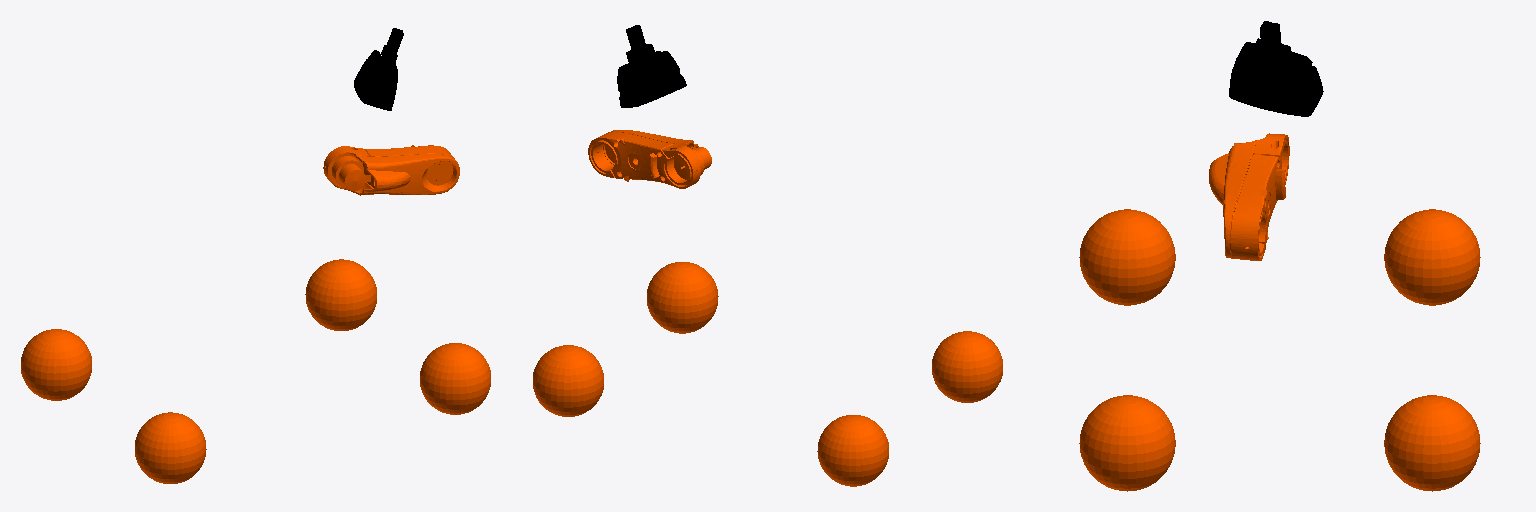
--- Facts derived from the render (not from the file) ---
Views: 3 orthographic renders of the robot side by side, from view 1: azimuth 30°, elevation 25°; view 2: azimuth 150°, elevation 25°; view 3: azimuth 270°, elevation 25°.
Robot: youbot — 21 links, 20 joints (5 revolute, 8 continuous, 2 prismatic, 5 fixed); root link base_footprint; default pose: all joints at 0.
Visible links, largest first — view 1: arm_link_3, wheel_link_fr, wheel_link_bl, wheel_link_br, wheel_link_fl, gripper_palm_link; view 2: arm_link_3, wheel_link_fl, wheel_link_br, wheel_link_fr, wheel_link_bl, gripper_palm_link; view 3: wheel_link_fl, wheel_link_fr, wheel_link_bl, wheel_link_br, arm_link_3, gripper_palm_link, gripper_finger_link_l.
Boxes of the visible links, x1,y1,x2,y2 form: arm_link_3: [323, 145, 459, 195]; wheel_link_fr: [420, 343, 490, 414]; wheel_link_bl: [21, 329, 91, 400]; wheel_link_br: [135, 412, 206, 483]; wheel_link_fl: [305, 259, 376, 330]; gripper_palm_link: [354, 50, 397, 110]; arm_link_3: [588, 130, 711, 188]; wheel_link_fl: [533, 345, 603, 416]; wheel_link_br: [932, 331, 1002, 402]; wheel_link_fr: [647, 262, 718, 333]; wheel_link_bl: [817, 415, 888, 486]; gripper_palm_link: [617, 51, 686, 107]; wheel_link_fl: [1384, 395, 1480, 491]; wheel_link_fr: [1079, 395, 1175, 491]; wheel_link_bl: [1384, 209, 1480, 305]; wheel_link_br: [1079, 209, 1175, 305]; arm_link_3: [1209, 133, 1289, 260]; gripper_palm_link: [1229, 42, 1323, 116]; gripper_finger_link_l: [1268, 23, 1291, 64].
Size in the robot's own frame: 0.5791 by 0.416 by 0.527 metres.
Meshes: 11 distinct files referenced, 4 mesh visuals loaded (3 Collada DAE); not drawn: 8 (reference not matched to a file when rendering).

URDF robot description (youbot):
<?xml version="1.0" ?>
<!-- =================================================================================== -->
<!-- |    This document was autogenerated by xacro from robots/youbot.urdf.xacro       | -->
<!-- |    EDITING THIS FILE BY HAND IS NOT RECOMMENDED                                 | -->
<!-- =================================================================================== -->
<robot name="youbot" xmlns:controller="http://playerstage.sourceforge.net/gazebo/xmlschema/#controller" xmlns:interface="http://playerstage.sourceforge.net/gazebo/xmlschema/#interface" xmlns:sensor="http://playerstage.sourceforge.net/gazebo/xmlschema/#sensor" xmlns:xacro="http://playerstage.sourceforge.net/gazebo/xmlschema/#interface">
  <!--property name="" value="0.360" /-->
  &gt;

	
  <gazebo>
    <plugin filename="libgazebo_ros_control.so" name="gazebo_ros_controller"/>
  </gazebo>
  <material name="Orange">
    <color rgba="1.0 0.4 0.0 1.0"/>
  </material>
  <material name="Grey">
    <color rgba="0.7 0.7 0.7 1.0"/>
  </material>
  <material name="DarkGrey">
    <color rgba="0.3 0.3 0.3 1.0"/>
  </material>
  <material name="White">
    <color rgba="1.0 1.0 1.0 1.0"/>
  </material>
  <material name="Black">
    <color rgba="0.0 0.0 0.0 1.0"/>
  </material>
  <material name="Red">
    <color rgba="1.0 0.0 0.0 1.0"/>
  </material>
  <material name="Green">
    <color rgba="0.0 1.0 0.0 1.0"/>
  </material>
  <material name="Blue">
    <color rgba="0.0 0.0 0.8 1.0"/>
  </material>
  <material name="LightGrey">
    <color rgba="0.82 0.82 0.82 1.0"/>
  </material>
  <!-- Now we can start using the macros xacro:included above to define the actual youbot -->
  <!-- The first use of a macro.  This one was defined in base.urdf.xacro above.
       A macro like this will expand to a set of link and joint definitions, and to additional
       Gazebo-related extensions (sensor plugins, etc).  The macro takes an argument, name, 
       that equals "base", and uses it to generate names for its component links and joints 
       (e.g., base_link).  The xacro:included origin block is also an argument to the macro.  By convention, 
       the origin block defines where the component is w.r.t its parent (in this case the parent 
       is the world frame). For more, see http://www.ros.org/wiki/xacro -->
  <link name="base_footprint">
    <inertial>
      <mass value="0.1"/>
      <origin rpy="0 0 0" xyz="0 0 -0.05"/>
      <inertia ixx="1.0" ixy="0.0" ixz="0.0" iyy="1.0" iyz="0.0" izz="1.0"/>
    </inertial>
    <visual>
      <origin rpy="0 0 0" xyz="0 0 0"/>
      <geometry>
        <box size="0.001 0.001 0.001"/>
      </geometry>
      <material name="Red"/>
    </visual>
    <collision>
      <origin rpy="0 0 0" xyz="0 0 -0.05"/>
      <geometry>
        <box size="0.001 0.001 0.001"/>
      </geometry>
    </collision>
  </link>
  <joint name="base_footprint_joint" type="fixed">
    <origin rpy="0 0 0" xyz="0 0 0"/>
    <child link="base_link"/>
    <parent link="base_footprint"/>
  </joint>
  <link name="base_link">
    <inertial>
      <mass value="22.0"/>
      <origin xyz="0 0 0"/>
      <inertia ixx="5.652232699207" ixy="-0.009719934438" ixz="1.293988226423" iyy="5.669473158652" iyz="-0.007379583694" izz="3.683196351726"/>
    </inertial>
    <visual>
      <origin rpy="0 0 0" xyz="0 0 0"/>
      <geometry>
        <mesh filename="meshes/youbot_base/base.dae"/>
      </geometry>
      <material name="DarkGrey"/>
    </visual>
    <collision>
      <origin rpy="0 0 0" xyz="0 0 0"/>
      <geometry>
        <!--<box size="${base_size_x} ${base_size_y} ${base_size_z}" />-->
        <mesh filename="meshes/youbot_base/base_convex.dae"/>
      </geometry>
    </collision>
  </link>
  <!-- front left wheel -->
  <joint name="caster_joint_fl" type="continuous">
    <origin rpy="0 0 0" xyz="0.228 0.158 -0.034"/>
    <axis xyz="0 0 1"/>
    <limit effort="30" velocity="10"/>
    <dynamics damping="1.0" friction="1.0"/>
    <safety_controller k_velocity="10.0"/>
    <parent link="base_link"/>
    <child link="caster_link_fl"/>
  </joint>
  <link name="caster_link_fl">
    <inertial>
      <mass value="0.1"/>
      <origin xyz="0 0 0"/>
      <inertia ixx="0.012411765597" ixy="-0.000711733678" ixz="0.00050272983" iyy="0.015218160428" iyz="-0.000004273467" izz="0.011763977943"/>
    </inertial>
  </link>
  <joint name="wheel_joint_fl" type="continuous">
    <axis xyz="0 1 0"/>
    <limit effort="30" velocity="10"/>
    <origin rpy="0 0 0" xyz="0.0 0.0 0.0"/>
    <parent link="caster_link_fl"/>
    <dynamics damping="1.0" friction="1.0"/>
    <safety_controller k_velocity="10.0"/>
    <child link="wheel_link_fl"/>
  </joint>
  <link name="wheel_link_fl">
    <inertial>
      <mass value="0.4"/>
      <origin xyz="0 0 0"/>
      <inertia ixx="0.012411765597" ixy="-0.000711733678" ixz="0.00050272983" iyy="0.015218160428" iyz="-0.000004273467" izz="0.011763977943"/>
    </inertial>
    <visual>
      <origin rpy="0 0 0" xyz="0 0 0"/>
      <!--<mesh filename="meshes/youbot_base/youbot_wheel.stl" />-->
      <geometry>
        <sphere radius="0.05"/>
      </geometry>
      <material name="Orange"/>
    </visual>
    <collision>
      <origin rpy="1.57079632679 0 0" xyz="0 0 0"/>
      <geometry>
        <cylinder length="0.05" radius="0.05"/>
      </geometry>
    </collision>
  </link>
  <!-- front right wheel -->
  <joint name="caster_joint_fr" type="continuous">
    <origin rpy="0 0 0" xyz="0.228 -0.158 -0.034"/>
    <axis xyz="0 0 1"/>
    <limit effort="30" velocity="10"/>
    <dynamics damping="1.0" friction="1.0"/>
    <safety_controller k_velocity="10.0"/>
    <parent link="base_link"/>
    <child link="caster_link_fr"/>
  </joint>
  <link name="caster_link_fr">
    <inertial>
      <mass value="0.1"/>
      <origin xyz="0 0 0"/>
      <inertia ixx="0.012411765597" ixy="-0.000711733678" ixz="0.00050272983" iyy="0.015218160428" iyz="-0.000004273467" izz="0.011763977943"/>
    </inertial>
  </link>
  <joint name="wheel_joint_fr" type="continuous">
    <axis xyz="0 1 0"/>
    <limit effort="30" velocity="10"/>
    <dynamics damping="1.0" friction="1.0"/>
    <safety_controller k_velocity="10.0"/>
    <origin rpy="0 0 0" xyz="0.0 0.0 0.0"/>
    <parent link="caster_link_fr"/>
    <child link="wheel_link_fr"/>
  </joint>
  <link name="wheel_link_fr">
    <inertial>
      <mass value="0.4"/>
      <origin xyz="0 0 0"/>
      <inertia ixx="0.012411765597" ixy="-0.000711733678" ixz="0.00050272983" iyy="0.015218160428" iyz="-0.000004273467" izz="0.011763977943"/>
    </inertial>
    <visual>
      <origin rpy="0 0 0" xyz="0 0 0"/>
      <geometry>
        <!--<mesh filename="meshes/youbot_base/youbot_wheel.stl" />-->
        <sphere radius="0.05"/>
      </geometry>
      <material name="Orange"/>
    </visual>
    <collision>
      <origin rpy="1.57079632679 0 0" xyz="0 0 0"/>
      <geometry>
        <cylinder length="0.05" radius="0.05"/>
      </geometry>
    </collision>
  </link>
  <!-- back left wheel -->
  <joint name="caster_joint_bl" type="continuous">
    <origin rpy="0 0 0" xyz="-0.228 0.158 -0.034"/>
    <axis xyz="0 0 1"/>
    <limit effort="30" velocity="10"/>
    <dynamics damping="1.0" friction="1.0"/>
    <safety_controller k_velocity="10.0"/>
    <parent link="base_link"/>
    <child link="caster_link_bl"/>
  </joint>
  <link name="caster_link_bl">
    <inertial>
      <mass value="0.1"/>
      <origin xyz="0 0 0"/>
      <inertia ixx="0.012411765597" ixy="-0.000711733678" ixz="0.00050272983" iyy="0.015218160428" iyz="-0.000004273467" izz="0.011763977943"/>
    </inertial>
  </link>
  <joint name="wheel_joint_bl" type="continuous">
    <axis xyz="0 1 0"/>
    <limit effort="10" velocity="10"/>
    <limit effort="30" velocity="10"/>
    <dynamics damping="1.0" friction="1.0"/>
    <safety_controller k_velocity="10.0"/>
    <origin rpy="0 0 0" xyz="0.0 0.0 0.0"/>
    <parent link="caster_link_bl"/>
    <child link="wheel_link_bl"/>
  </joint>
  <link name="wheel_link_bl">
    <inertial>
      <mass value="0.4"/>
      <origin xyz="0 0 0"/>
      <inertia ixx="0.012411765597" ixy="-0.000711733678" ixz="0.00050272983" iyy="0.015218160428" iyz="-0.000004273467" izz="0.011763977943"/>
    </inertial>
    <visual>
      <origin rpy="0 0 0" xyz="0 0 0"/>
      <geometry>
        <!--<mesh filename="meshes/youbot_base/youbot_wheel.stl" />-->
        <sphere radius="0.05"/>
      </geometry>
      <material name="Orange"/>
    </visual>
    <collision>
      <origin rpy="1.57079632679 0 0" xyz="0 0 0"/>
      <geometry>
        <cylinder length="0.05" radius="0.05"/>
      </geometry>
    </collision>
  </link>
  <!-- back right wheel -->
  <joint name="caster_joint_br" type="continuous">
    <origin rpy="0 0 0" xyz="-0.228 -0.158 -0.034"/>
    <axis xyz="0 0 1"/>
    <limit effort="30" velocity="10"/>
    <dynamics damping="1.0" friction="1.0"/>
    <safety_controller k_velocity="10.0"/>
    <parent link="base_link"/>
    <child link="caster_link_br"/>
  </joint>
  <link name="caster_link_br">
    <inertial>
      <mass value="0.1"/>
      <origin xyz="0 0 0"/>
      <inertia ixx="0.012411765597" ixy="-0.000711733678" ixz="0.00050272983" iyy="0.015218160428" iyz="-0.000004273467" izz="0.011763977943"/>
    </inertial>
  </link>
  <joint name="wheel_joint_br" type="continuous">
    <axis xyz="0 1 0"/>
    <limit effort="30" velocity="10"/>
    <dynamics damping="1.0" friction="1.0"/>
    <safety_controller k_velocity="10.0"/>
    <origin rpy="0 0 0" xyz="0.0 0.0 0.0"/>
    <parent link="caster_link_br"/>
    <child link="wheel_link_br"/>
  </joint>
  <link name="wheel_link_br">
    <inertial>
      <mass value="0.4"/>
      <origin xyz="0 0 0"/>
      <inertia ixx="0.012411765597" ixy="-0.000711733678" ixz="0.00050272983" iyy="0.015218160428" iyz="-0.000004273467" izz="0.011763977943"/>
    </inertial>
    <visual>
      <origin rpy="0 0 0" xyz="0 0 0"/>
      <geometry>
        <!--<mesh filename="meshes/youbot_base/youbot_wheel.stl" />-->
        <sphere radius="0.05"/>
      </geometry>
      <material name="Orange"/>
    </visual>
    <collision>
      <origin rpy="1.57079632679 0 0" xyz="0 0 0"/>
      <geometry>
        <cylinder length="0.05" radius="0.05"/>
      </geometry>
    </collision>
  </link>
  <gazebo reference="youbot_base">
    <material value="youbot/DarkGrey"/>
  </gazebo>
  <!-- front left wheel -->
  <gazebo reference="wheel_link_fl">
    <material value="youbot/Orange"/>
    <kp>1000000</kp>
    <kd>100</kd>
  </gazebo>
  <gazebo reference="caster_link_fl">
    <material value="youbot/Orange"/>
  </gazebo>
  <!-- front right wheel -->
  <gazebo reference="wheel_link_fr">
    <material value="youbot/Orange"/>
    <kp>1000000</kp>
    <kd>100</kd>
  </gazebo>
  <gazebo reference="caster_link_fr">
    <material value="youbot/Orange"/>
  </gazebo>
  <!-- back left wheel -->
  <gazebo reference="wheel_link_bl">
    <material value="youbot/Orange"/>
    <kp>1000000</kp>
    <kd>100</kd>
  </gazebo>
  <gazebo reference="caster_link_bl">
    <material value="youbot/Orange"/>
  </gazebo>
  <!-- back right wheel -->
  <gazebo reference="wheel_link_br">
    <material value="youbot/Orange"/>
    <kp>1000000</kp>
    <kd>100</kd>
  </gazebo>
  <gazebo reference="caster_link_br">
    <material value="youbot/Orange"/>
  </gazebo>
  <!-- position controller -->
  <gazebo>
    <plugin filename="libgazebo_ros_planar_move.so" name="base_controller">
      <commandTopic>cmd_vel</commandTopic>
      <odometryTopic>odom</odometryTopic>
      <odometryFrame>odom</odometryFrame>
      <odometryRate>100.0</odometryRate>
      <robotBaseFrame>base_footprint</robotBaseFrame>
    </plugin>
  </gazebo>
  <!-- front left wheel -->
  <transmission name="wheel_trans_fl">
    <type>transmission_interface/SimpleTransmission</type>
    <actuator name="wheel_motor_fl">
      <hardwareInterface>VelocityJointInterface</hardwareInterface>
      <mechanicalReduction>79.2380952381</mechanicalReduction>
    </actuator>
    <joint name="wheel_joint_fl">
      <hardwareInterface>VelocityJointInterface</hardwareInterface>
    </joint>
  </transmission>
  <transmission name="caster_trans_fl">
    <type>transmission_interface/SimpleTransmission</type>
    <actuator name="caster_motor_fl">
      <hardwareInterface>VelocityJointInterface</hardwareInterface>
      <mechanicalReduction>79.2380952381</mechanicalReduction>
    </actuator>
    <joint name="caster_joint_fl">
      <hardwareInterface>VelocityJointInterface</hardwareInterface>
    </joint>
  </transmission>
  <!-- front right wheel -->
  <transmission name="wheel_trans_fr">
    <type>transmission_interface/SimpleTransmission</type>
    <actuator name="wheel_motor_fr">
      <hardwareInterface>VelocityJointInterface</hardwareInterface>
      <mechanicalReduction>79.2380952381</mechanicalReduction>
    </actuator>
    <joint name="wheel_joint_fr">
      <hardwareInterface>VelocityJointInterface</hardwareInterface>
    </joint>
  </transmission>
  <transmission name="caster_trans_fr">
    <type>transmission_interface/SimpleTransmission</type>
    <actuator name="caster_motor_fr">
      <hardwareInterface>VelocityJointInterface</hardwareInterface>
      <mechanicalReduction>79.2380952381</mechanicalReduction>
    </actuator>
    <joint name="caster_joint_fr">
      <hardwareInterface>VelocityJointInterface</hardwareInterface>
    </joint>
  </transmission>
  <!-- back left wheel -->
  <transmission name="wheel_trans_bl">
    <type>transmission_interface/SimpleTransmission</type>
    <actuator name="wheel_motor_bl">
      <hardwareInterface>VelocityJointInterface</hardwareInterface>
      <mechanicalReduction>79.2380952381</mechanicalReduction>
    </actuator>
    <joint name="wheel_joint_bl">
      <hardwareInterface>VelocityJointInterface</hardwareInterface>
    </joint>
  </transmission>
  <transmission name="caster_trans_bl">
    <type>transmission_interface/SimpleTransmission</type>
    <actuator name="caster_motor_bl">
      <hardwareInterface>VelocityJointInterface</hardwareInterface>
      <mechanicalReduction>79.2380952381</mechanicalReduction>
    </actuator>
    <joint name="caster_joint_bl">
      <hardwareInterface>VelocityJointInterface</hardwareInterface>
    </joint>
  </transmission>
  <!-- back right wheel -->
  <transmission name="wheel_trans_br">
    <type>transmission_interface/SimpleTransmission</type>
    <actuator name="wheel_motor_br">
      <hardwareInterface>VelocityJointInterface</hardwareInterface>
      <mechanicalReduction>79.2380952381</mechanicalReduction>
    </actuator>
    <joint name="wheel_joint_br">
      <hardwareInterface>VelocityJointInterface</hardwareInterface>
    </joint>
  </transmission>
  <transmission name="caster_trans_br">
    <type>transmission_interface/SimpleTransmission</type>
    <actuator name="caster_motor_br">
      <hardwareInterface>VelocityJointInterface</hardwareInterface>
      <mechanicalReduction>79.2380952381</mechanicalReduction>
    </actuator>
    <joint name="caster_joint_br">
      <hardwareInterface>VelocityJointInterface</hardwareInterface>
    </joint>
  </transmission>
  <!-- joint between arm_7_link and sdh_palm_link -->
  <joint name="plate_joint" type="fixed">
    <origin rpy="0 0 0" xyz="-0.159 0 0.046"/>
    <parent link="base_link"/>
    <child link="plate_link"/>
  </joint>
  <link name="plate_link">
    <inertial>
      <origin rpy="0 0 0" xyz="0 0 0"/>
      <mass value="1"/>
      <inertia ixx="0.01" ixy="0" ixz="0" iyy="0.01" iyz="0" izz="0.01"/>
    </inertial>
    <visual>
      <origin rpy="0 0 0" xyz="0 0 0"/>
      <geometry>
        <mesh filename="meshes/youbot_plate/plate.dae"/>
      </geometry>
      <material name="DarkGrey"/>
    </visual>
    <collision>
      <origin rpy="0 0 0" xyz="0 0 0"/>
      <geometry>
        <mesh filename="meshes/youbot_plate/plate_convex.dae"/>
      </geometry>
    </collision>
  </link>
  <!-- extensions -->
  <!-- joint between base_link and arm_0_link -->
  <joint name="arm_joint_0" type="fixed">
    <origin rpy="0 0 0" xyz="0.143 0 0.046"/>
    <parent link="base_link"/>
    <child link="arm_link_0"/>
  </joint>
  <link name="arm_link_0">
    <inertial>
      <!--<origin xyz="0.023 0 0.006" rpy="0 0 0"/>-->
      <origin rpy="0 0 0" xyz="0 0 0"/>
      <mass value="0.845"/>
      <inertia ixx="0.01" ixy="0" ixz="0" iyy="0.01" iyz="0" izz="0.01"/>
    </inertial>
    <visual>
      <origin rpy="0 0 0" xyz="0 0 0"/>
      <geometry>
        <mesh filename="meshes/youbot_arm/arm0.dae"/>
      </geometry>
      <material name="DarkGrey"/>
    </visual>
    <collision>
      <!--<origin xyz="0.023 0 0.006" rpy="0 0 0"/>-->
      <origin rpy="0 0 0" xyz="0 0 0"/>
      <geometry>
        <mesh filename="meshes/youbot_arm/arm0_convex.dae"/>
        <!--<cylinder length="0.078" radius="0.093"/>-->
      </geometry>
    </collision>
  </link>
  <!-- joint between arm_0_link and arm_1_link -->
  <joint name="arm_joint_1" type="revolute">
    <origin rpy="0 0 2.96705972839" xyz="0.024 0 0.096"/>
    <parent link="arm_link_0"/>
    <child link="arm_link_1"/>
    <axis xyz="0 0 -1"/>
    <!--<calibration rising="${arm_1_ref}" falling="${arm_1_ref}"/>-->
    <dynamics damping="1" friction="1"/>
    <!-- damping - N*s/m, N*s*m/rad -->
    <!-- friction - N, N*m -->
    <limit effort="9.5" lower="0" upper="5.89921287174" velocity="1.57079632679"/>
    <!--effort - N, N*m-->
    <!--velocity - m/s, rad/s-->
    <safety_controller k_position="20" k_velocity="1.51197195937" soft_lower_limit="0.001" soft_upper_limit="5.89821287174"/>
    <!--k_position N/m, N/rad-->
    <!--k_velocity N*s/m, N*s*m/rad-->
    <!--for details: http://www.ros.org/wiki/pr2_controller_manager/safety_limits-->
  </joint>
  <link name="arm_link_1">
    <inertial>
      <mass value="2.412"/>
      <origin rpy="0 0 0" xyz="0.01489 0.00213 0.00213"/>
      <inertia ixx="0.003863" ixy="-0.000979" ixz="0.000000" iyy="0.006196" iyz="0.000000" izz="0.006369"/>
    </inertial>
    <visual>
      <origin rpy="0 0 0" xyz="0 0 0"/>
      <geometry>
        <mesh filename="meshes/youbot_arm/arm1.dae"/>
      </geometry>
      <!--<material name="Orange" />-->
    </visual>
    <collision>
      <!--<origin xyz="0 0 -0.003" rpy="0 0 0" />-->
      <origin rpy="0 0 0" xyz="0 0 0"/>
      <geometry>
        <mesh filename="meshes/youbot_arm/arm1_convex.dae"/>
        <!--<cylinder length="0.102" radius="0.080"/>-->
      </geometry>
    </collision>
  </link>
  <!-- joint between arm_1_link and arm_2_link -->
  <joint name="arm_joint_2" type="revolute">
    <origin rpy="0 -1.1344640138 0" xyz="0.033 0 0.019"/>
    <parent link="arm_link_1"/>
    <child link="arm_link_2"/>
    <axis xyz="0 1 0"/>
    <!--<calibration rising="${arm_2_ref}" falling="${arm_2_ref}"/>-->
    <dynamics damping="1" friction="1"/>
    <limit effort="9.5" lower="0" upper="2.70526034059" velocity="1.57079632679"/>
    <safety_controller k_position="20" k_velocity="6.04788783749" soft_lower_limit="0.001" soft_upper_limit="2.70426034059"/>
  </joint>
  <link name="arm_link_2">
    <inertial>
      <mass value="1.155"/>
      <origin rpy="0 0 0" xyz="0.10453 0.0017 -0.00297"/>
      <inertia ixx="0.000823" ixy="0.000000" ixz="-0.000000" iyy="0.004447" iyz="0.000000" izz="0.004439"/>
    </inertial>
    <visual>
      <origin rpy="0 0 0" xyz="0 -0.032 0.078"/>
      <geometry>
        <mesh filename="meshes/youbot_arm/arm2.dae"/>
      </geometry>
      <material name="Orange"/>
    </visual>
    <collision>
      <!--<origin xyz="0.001 -0.041 0.074" rpy="0 0 0" />-->
      <origin rpy="0 0 0" xyz="0 -0.032 0.078"/>
      <geometry>
        <mesh filename="meshes/youbot_arm/arm2_convex.dae"/>
        <!--<box size="0.074 0.082 0.222"/>-->
      </geometry>
    </collision>
  </link>
  <!-- joint between arm_2_link and arm_3_link -->
  <!--<joint name="${name}_joint_3" type="revolute">
			<origin xyz="0.000 0.000 0.155" rpy="0 ${146 * M_PI / 180} 0"/>
			<parent link="${name}_link_2"/>
			<child link="${name}_link_3"/>
			<axis xyz="0 1 0"/>
			<dynamics damping="1" friction="1" />
			<limit effort="${6}" velocity="${M_PI / 2.0}" lower="-${joint_3_limit}" upper="0"/>
                        <safety_controller k_position="20" k_velocity="50" soft_lower_limit="-${joint_3_limit_soft}" soft_upper_limit="${threshold}" />
		</joint>-->
  <joint name="arm_joint_3" type="revolute">
    <origin rpy="0 2.54818070791 0" xyz="0.000 0.000 0.155"/>
    <parent link="arm_link_2"/>
    <child link="arm_link_3"/>
    <axis xyz="0 1 0"/>
    <dynamics damping="1" friction="1"/>
    <limit effort="6" lower="-5.18362787842" upper="0" velocity="1.57079632679"/>
    <safety_controller k_position="20" k_velocity="50" soft_lower_limit="-5.18262787842" soft_upper_limit="-0.001"/>
  </joint>
  <link name="arm_link_3">
    <inertial>
      <mass value="0.934"/>
      <origin rpy="0 0 0" xyz="0.0001 0.0967 0.02107"/>
      <inertia ixx="0.002459" ixy="0.000000" ixz="0.000000" iyy="0.002571" iyz="-0.000000" izz="0.000535"/>
    </inertial>
    <visual>
      <origin rpy="0 0 0" xyz="0.000 0.028 0.079"/>
      <geometry>
        <mesh filename="meshes/youbot_arm/arm3.dae"/>
      </geometry>
      <material name="Orange"/>
    </visual>
    <collision>
      <!--<origin xyz="0.000 0.025 0.067" rpy="0 0 0" />-->
      <origin rpy="0 0 0" xyz="0.000 0.028 0.079"/>
      <geometry>
        <mesh filename="meshes/youbot_arm/arm3_convex.dae"/>
        <!--<box size="0.064 0.054 0.192"/>-->
      </geometry>
    </collision>
  </link>
  <!-- joint between arm_3_link and arm_4_link -->
  <joint name="arm_joint_4" type="revolute">
    <origin rpy="0 -1.78896248329 0" xyz="0.000 0.000 0.135"/>
    <parent link="arm_link_3"/>
    <child link="arm_link_4"/>
    <axis xyz="0 1 0"/>
    <!--<calibration rising="${arm_4_ref}" falling="${arm_4_ref}"/>-->
    <dynamics damping="1" friction="1"/>
    <limit effort="2" lower="0" upper="3.57792496659" velocity="1.57079632679"/>
    <safety_controller k_position="20" k_velocity="100" soft_lower_limit="0" soft_upper_limit="3.57692496659"/>
  </joint>
  <link name="arm_link_4">
    <inertial>
      <mass value="0.877"/>
      <origin rpy="0 0 0" xyz="0.00011 0.05103 -0.02319"/>
      <inertia ixx="0.000869" ixy="0.000000" ixz="-0.000000" iyy="0.001173" iyz="-0.000231" izz="0.001091"/>
    </inertial>
    <visual>
      <origin rpy="0 0 0" xyz="0 -0.010 0.029"/>
      <geometry>
        <mesh filename="meshes/youbot_arm/arm4.dae"/>
      </geometry>
      <material name="Orange"/>
    </visual>
    <collision>
      <!--<origin xyz="0 0 0.026" rpy="0 0 0" />-->
      <origin rpy="0 0 0" xyz="0 -0.010 0.029"/>
      <geometry>
        <mesh filename="meshes/youbot_arm/arm4_convex.dae"/>
        <!--<box size="0.058 0.100 0.118"/>-->
      </geometry>
    </collision>
  </link>
  <!-- joint between arm_4_link and arm_5_link -->
  <joint name="arm_joint_5" type="revolute">
    <origin rpy="0 0 2.92342649709" xyz="-0.002 0 0.130"/>
    <parent link="arm_link_4"/>
    <child link="arm_link_5"/>
    <axis xyz="0 0 -1"/>
    <!--<calibration rising="${arm_5_ref}" falling="${arm_5_ref}"/>-->
    <dynamics damping="1" friction="1"/>
    <limit effort="1" lower="0" upper="5.84685299418" velocity="1.57079632679"/>
    <safety_controller k_position="20" k_velocity="100" soft_lower_limit="0" soft_upper_limit="5.84585299418"/>
  </joint>
  <link name="arm_link_5">
    <inertial>
      <mass value="0.251"/>
      <origin rpy="0 0 0" xyz="0.0 0.00115 -0.01683"/>
      <inertia ixx="0.000280" ixy="0.000000" ixz="0.000000" iyy="0.000339" iyz="0.000000" izz="0.000119"/>
    </inertial>
    <visual>
      <origin rpy="0 0 0" xyz="0.003 0 -0.034"/>
      <geometry>
        <mesh filename="meshes/youbot_arm/arm5.dae"/>
      </geometry>
      <material name="DarkGrey"/>
    </visual>
    <collision>
      <origin rpy="0 0 0" xyz="0.003 0 -0.034"/>
      <geometry>
        <mesh filename="meshes/youbot_arm/arm5_convex.dae"/>
        <!--<box size="0.054 0.096 0.030"/>-->
      </geometry>
    </collision>
  </link>
  <gazebo reference="arm_link_0">
    <material value="youbot/DarkGrey"/>
    <turnGravityOff>false</turnGravityOff>
  </gazebo>
  <gazebo reference="arm_link_1">
    <!--<material value="youbot/Orange" />-->
    <turnGravityOff>false</turnGravityOff>
  </gazebo>
  <gazebo reference="arm_link_2">
    <!--<material value="youbot/Orange" />-->
    <turnGravityOff>false</turnGravityOff>
  </gazebo>
  <gazebo reference="arm_link_3">
    <!--<material value="youbot/Orange" />-->
    <turnGravityOff>false</turnGravityOff>
  </gazebo>
  <gazebo reference="arm_link_4">
    <!--<material value="youbot/Orange" />-->
    <turnGravityOff>false</turnGravityOff>
  </gazebo>
  <gazebo reference="arm_link_5">
    <!--<material value="youbot/DarkGrey" />-->
    <turnGravityOff>false</turnGravityOff>
  </gazebo>
  <transmission name="arm_trans_1">
    <type>transmission_interface/SimpleTransmission</type>
    <actuator name="arm_motor_1">
      <hardwareInterface>EffortJointInterface</hardwareInterface>
      <mechanicalReduction>1</mechanicalReduction>
    </actuator>
    <joint name="arm_joint_1">
      <hardwareInterface>EffortJointInterface</hardwareInterface>
    </joint>
  </transmission>
  <transmission name="arm_trans_2">
    <type>transmission_interface/SimpleTransmission</type>
    <actuator name="arm_motor_2">
      <hardwareInterface>EffortJointInterface</hardwareInterface>
      <mechanicalReduction>1</mechanicalReduction>
    </actuator>
    <joint name="arm_joint_2">
      <hardwareInterface>EffortJointInterface</hardwareInterface>
    </joint>
  </transmission>
  <transmission name="arm_trans_3">
    <type>transmission_interface/SimpleTransmission</type>
    <actuator name="arm_motor_3">
      <hardwareInterface>EffortJointInterface</hardwareInterface>
      <mechanicalReduction>1</mechanicalReduction>
    </actuator>
    <joint name="arm_joint_3">
      <hardwareInterface>EffortJointInterface</hardwareInterface>
    </joint>
  </transmission>
  <transmission name="arm_trans_4">
    <type>transmission_interface/SimpleTransmission</type>
    <actuator name="arm_motor_4">
      <hardwareInterface>EffortJointInterface</hardwareInterface>
      <mechanicalReduction>1</mechanicalReduction>
    </actuator>
    <joint name="arm_joint_4">
      <hardwareInterface>EffortJointInterface</hardwareInterface>
    </joint>
  </transmission>
  <transmission name="arm_trans_5">
    <type>transmission_interface/SimpleTransmission</type>
    <actuator name="arm_motor_5">
      <hardwareInterface>EffortJointInterface</hardwareInterface>
      <mechanicalReduction>1</mechanicalReduction>
    </actuator>
    <joint name="arm_joint_5">
      <hardwareInterface>EffortJointInterface</hardwareInterface>
    </joint>
  </transmission>
  <!-- joint between arm_7_link and sdh_palm_link -->
  <joint name="gripper_palm_joint" type="fixed">
    <origin rpy="0 0 0" xyz="0 0 0"/>
    <parent link="arm_link_5"/>
    <child link="gripper_palm_link"/>
  </joint>
  <link name="gripper_palm_link">
    <inertial>
      <origin rpy="0 0 0" xyz="0 0 0"/>
      <mass value="0.1"/>
      <inertia ixx="0.01" ixy="0" ixz="0" iyy="0.01" iyz="0" izz="0.01"/>
    </inertial>
    <visual>
      <origin rpy="0 0 0" xyz="0 0 0"/>
      <geometry>
        <mesh filename="meshes/youbot_gripper/palm.dae"/>
      </geometry>
      <material name="Black"/>
    </visual>
    <collision>
      <origin rpy="0 0 0" xyz="0 0 0"/>
      <geometry>
        <!--<box size="0.050 0.094 0.054"/>-->
        <mesh filename="meshes/youbot_gripper/palm_convex.dae"/>
      </geometry>
    </collision>
  </link>
  <joint name="gripper_finger_joint_l" type="prismatic">
    <origin rpy="0 0 3.14159265359" xyz="0.004 0.008 0.046"/>
    <parent link="gripper_palm_link"/>
    <child link="gripper_finger_link_l"/>
    <axis xyz="0 -1 0"/>
    <dynamics damping="1.0" friction="1.0"/>
    <limit effort="1" lower="0" upper="0.0115" velocity="0.1"/>
    <safety_controller k_position="20" k_velocity="25" soft_lower_limit="0.001" soft_upper_limit="0.011"/>
  </joint>
  <link name="gripper_finger_link_l">
    <inertial>
      <origin rpy="0 0 0" xyz="0 -0.001 0"/>
      <mass value="0.01"/>
      <inertia ixx="0.01" ixy="0" ixz="0" iyy="0.01" iyz="0" izz="0.01"/>
    </inertial>
    <visual>
      <origin rpy="0 0 0" xyz="0 0 0"/>
      <geometry>
        <mesh filename="meshes/youbot_gripper/finger.dae"/>
      </geometry>
      <material name="Black"/>
    </visual>
    <collision>
      <origin rpy="0 0 0" xyz="0 0 0"/>
      <geometry>
        <!--<box size="0.014 0.020 0.046"/>-->
        <mesh filename="meshes/youbot_gripper/finger_convex.dae"/>
      </geometry>
    </collision>
  </link>
  <joint name="gripper_finger_joint_r" type="prismatic">
    <origin rpy="0 0 0" xyz="0.004 -0.008 0.046"/>
    <parent link="gripper_palm_link"/>
    <child link="gripper_finger_link_r"/>
    <axis xyz="0 -1 0"/>
    <dynamics damping="1.0" friction="1.0"/>
    <limit effort="1" lower="0" upper="0.0115" velocity="0.1"/>
    <safety_controller k_position="20" k_velocity="25" soft_lower_limit="0.001" soft_upper_limit="0.011"/>
  </joint>
  <link name="gripper_finger_link_r">
    <inertial>
      <origin rpy="0 0 0" xyz="0.000 -0.001 0"/>
      <mass value="0.01"/>
      <inertia ixx="0.01" ixy="0" ixz="0" iyy="0.01" iyz="0" izz="0.01"/>
    </inertial>
    <visual>
      <origin rpy="0 0 0" xyz="0 0 0"/>
      <geometry>
        <mesh filename="meshes/youbot_gripper/finger.dae"/>
      </geometry>
      <material name="Black"/>
    </visual>
    <collision>
      <origin rpy="0 0 0" xyz="0.000 0 0"/>
      <geometry>
        <!--<box size="0.014 0.020 0.046"/>-->
        <mesh filename="meshes/youbot_gripper/finger_convex.dae"/>
      </geometry>
    </collision>
  </link>
  <gazebo reference="gripper_palm_link">
    <material>Gazebo/Black</material>
    <turnGravityOff>false</turnGravityOff>
    <selfCollide>true</selfCollide>
  </gazebo>
  <gazebo reference="gripper_finger_l_link">
    <material>Gazebo/Black</material>
    <turnGravityOff>false</turnGravityOff>
    <selfCollide>true</selfCollide>
  </gazebo>
  <gazebo reference="gripper_finger_r_link">
    <material>Gazebo/Black</material>
    <turnGravityOff>false</turnGravityOff>
    <selfCollide>true</selfCollide>
  </gazebo>
  <transmission name="gripper_finger_l_trans">
    <type>transmission_interface/SimpleTransmission</type>
    <actuator name="gripper_finger_l_motor">
      <hardwareInterface>EffortJointInterface</hardwareInterface>
      <mechanicalReduction>1</mechanicalReduction>
    </actuator>
    <joint name="gripper_finger_joint_l">
      <hardwareInterface>EffortJointInterface</hardwareInterface>
    </joint>
  </transmission>
  <transmission name="gripper_finger_r_trans">
    <type>transmission_interface/SimpleTransmission</type>
    <actuator name="gripper_finger_r_motor">
      <hardwareInterface>EffortJointInterface</hardwareInterface>
      <mechanicalReduction>1</mechanicalReduction>
    </actuator>
    <joint name="gripper_finger_joint_r">
      <hardwareInterface>EffortJointInterface</hardwareInterface>
    </joint>
  </transmission>
  <joint name="base_laser_front_hokuyo_urg04_laser_joint" type="fixed">
    <axis xyz="0 1 0"/>
    <origin rpy="0 0 0" xyz="0.3 0 -0.03"/>
    <parent link="base_link"/>
    <child link="base_laser_front_link"/>
  </joint>
  <link name="base_laser_front_link" type="laser">
    <inertial>
      <mass value="0.16"/>
      <origin rpy="0 0 0" xyz="0 0 0"/>
      <inertia ixx="0.1" ixy="0" ixz="0" iyy="0.1" iyz="0" izz="0.1"/>
    </inertial>
    <visual>
      <origin rpy="0 0 0" xyz="0 0 0"/>
      <geometry>
        <mesh filename="meshes/sensors/hokuyo.dae"/>
      </geometry>
      <material name="DarkGrey"/>
    </visual>
    <collision>
      <origin rpy="0 0 0" xyz="0 0 0"/>
      <geometry>
        <mesh filename="meshes/sensors/hokuyo_convex.dae"/>
      </geometry>
    </collision>
  </link>
  <gazebo reference="base_laser_front_link">
    <sensor name="base_laser_front" type="ray">
      <always_on>true</always_on>
      <update_rate>10</update_rate>
      <pose>0 0 0 0 0 0</pose>
      <visualize>false</visualize>
      <ray>
        <scan>
          <horizontal>
            <samples>150</samples>
            <resolution>1.0</resolution>
            <min_angle>-1.57</min_angle>
            <max_angle>1.57</max_angle>
          </horizontal>
        </scan>
        <range>
          <min>0.05</min>
          <max>5.6</max>
          <resolution>0.36</resolution>
        </range>
      </ray>
      <plugin filename="libgazebo_ros_laser.so" name="gazebo_ros_base_laser_front_controller">
        <gaussianNoise>0.005</gaussianNoise>
        <alwaysOn>true</alwaysOn>
        <updateRate>10</updateRate>
        <topicName>base_scan</topicName>
        <frameName>/base_laser_front_link</frameName>
      </plugin>
    </sensor>
  </gazebo>
</robot>
